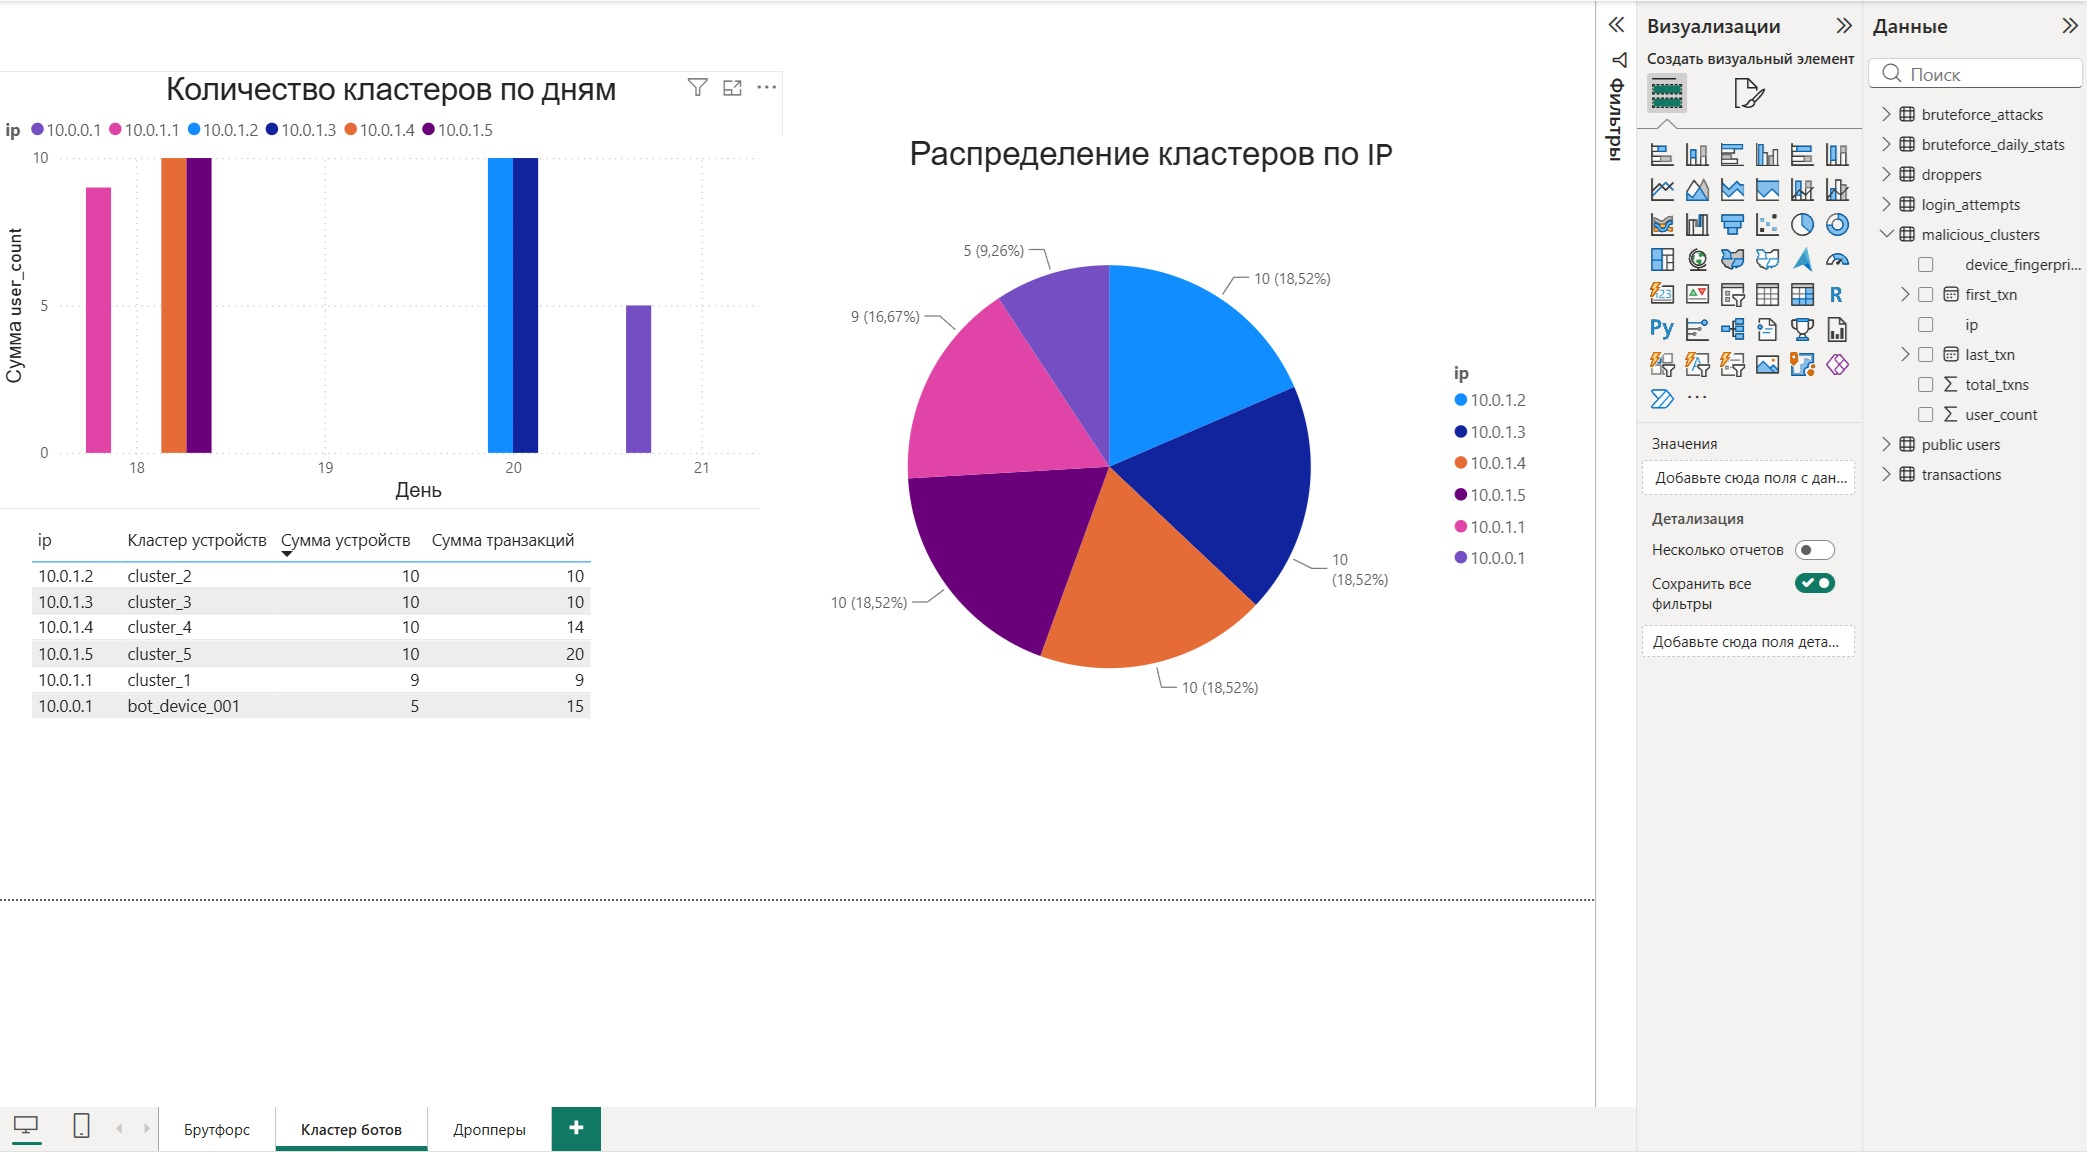

What the dashboard file says about the page in this screenshot:
{"tool":"powerbi","page":{"name":"Кластер ботов","canvas":[1280,720],"ordinal":1},"visuals":[{"type":"tableEx","fields":{"Values":["malicious_clusters.ip","malicious_clusters.device_fingerprint","Sum(malicious_clusters.user_count)","Sum(malicious_clusters.total_txns)"]},"box":[19.6,415.6,495.2,271.3],"z":0},{"type":"clusteredColumnChart","title":"Количество кластеров по дням","fields":{"Category":["malicious_clusters.first_txn.Изменение.Иерархия дат.День"],"Y":["Sum(malicious_clusters.user_count)"],"Series":["malicious_clusters.ip"]},"box":[0,56.6,629,350],"z":1000},{"type":"pieChart","title":"Распределение кластеров по IP","fields":{"Y":["Sum(malicious_clusters.user_count)"],"Category":["malicious_clusters.ip"]},"box":[609.5,107.4,629.2,505.6],"z":2000}]}

Visuals, with their boxes on the page's 1280x720 design canvas (x1, y1, x2, y2). These are canvas units, not pixel positions in the 2087x1152 screenshot, which may show the page scaled, cropped or inside an application window:
tableEx - malicious_clusters.ip x malicious_clusters.device_fingerprint: box=[20, 416, 515, 687]
"Количество кластеров по дням" clusteredColumnChart: box=[0, 57, 629, 407]
"Распределение кластеров по IP" pieChart: box=[610, 107, 1239, 613]
